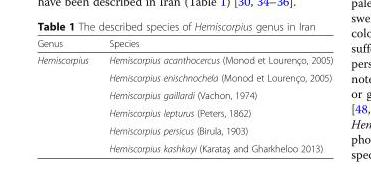table: (36, 37, 332, 153)
table column: (98, 37, 332, 153), (36, 37, 98, 153)
table column header: (36, 37, 332, 51)
table row: (36, 68, 332, 86), (36, 103, 332, 121), (36, 51, 332, 68), (36, 86, 332, 103), (36, 121, 332, 138), (36, 138, 332, 153), (36, 37, 332, 51)
table spanning cell: (36, 51, 98, 153)
